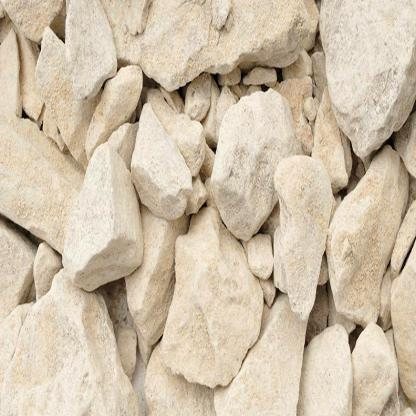Sedimentary_Limestone: (0, 282, 139, 415), (162, 228, 264, 386), (324, 133, 404, 330), (318, 0, 416, 154), (57, 143, 153, 282), (207, 93, 295, 233), (265, 156, 329, 306), (132, 100, 187, 213), (301, 322, 356, 415)
